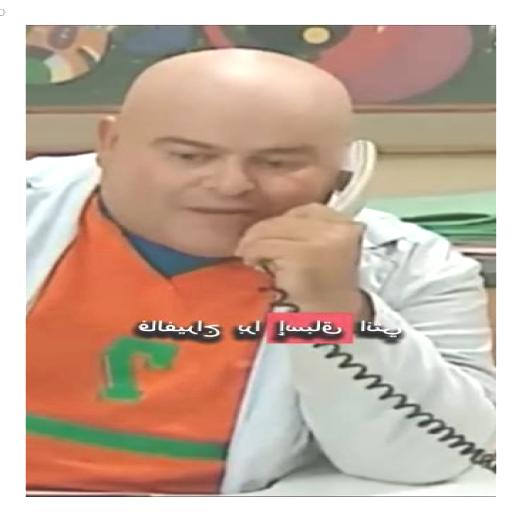sboui: (100, 49, 351, 256)
